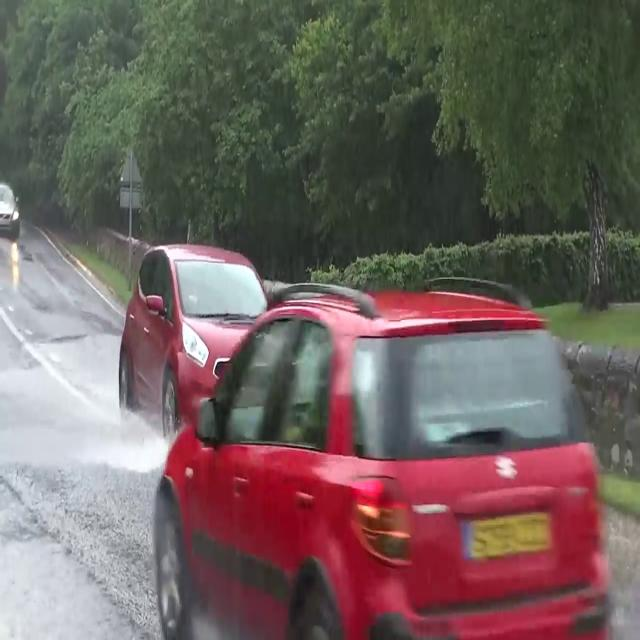license-plate-annotation: (454, 519, 558, 539)
